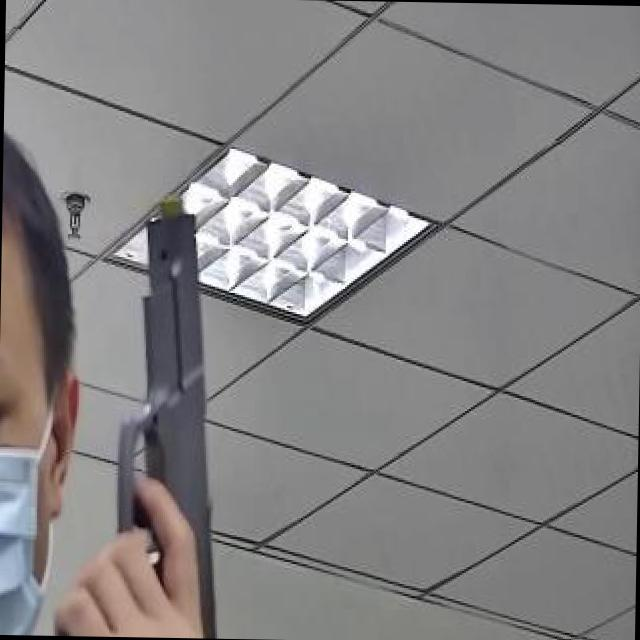Guns: (23, 159, 314, 640)
